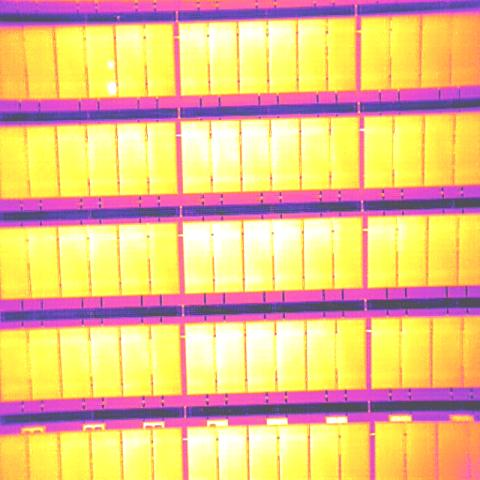fault: (108, 80, 118, 95), (108, 58, 116, 70)
